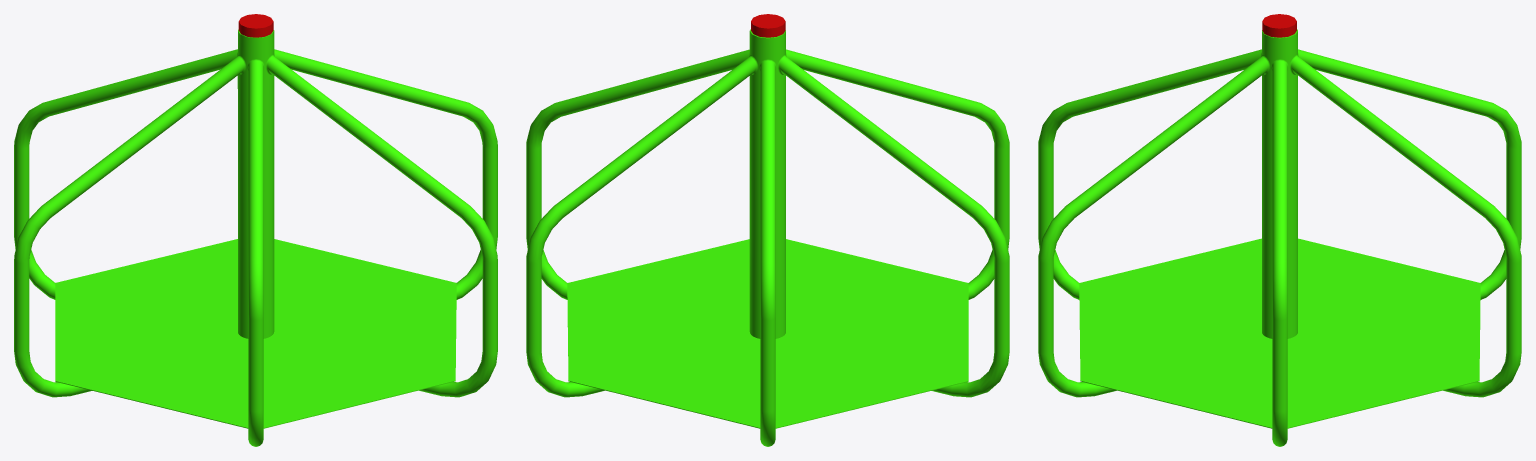
File: 4069-Calesita Trompo.FBX
3 views of the same model, side by side, from view 1: azimuth 30°, elevation 25°; view 2: azimuth 150°, elevation 25°; view 3: azimuth 270°, elevation 25° (orthographic).
Bounding box in the file's own units: 75.95 × 49.66 × 66.06.
